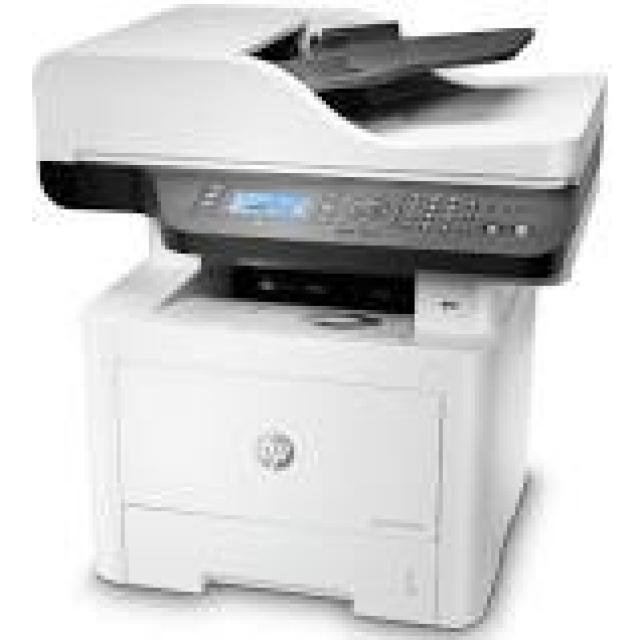printer: (21, 0, 618, 630)
